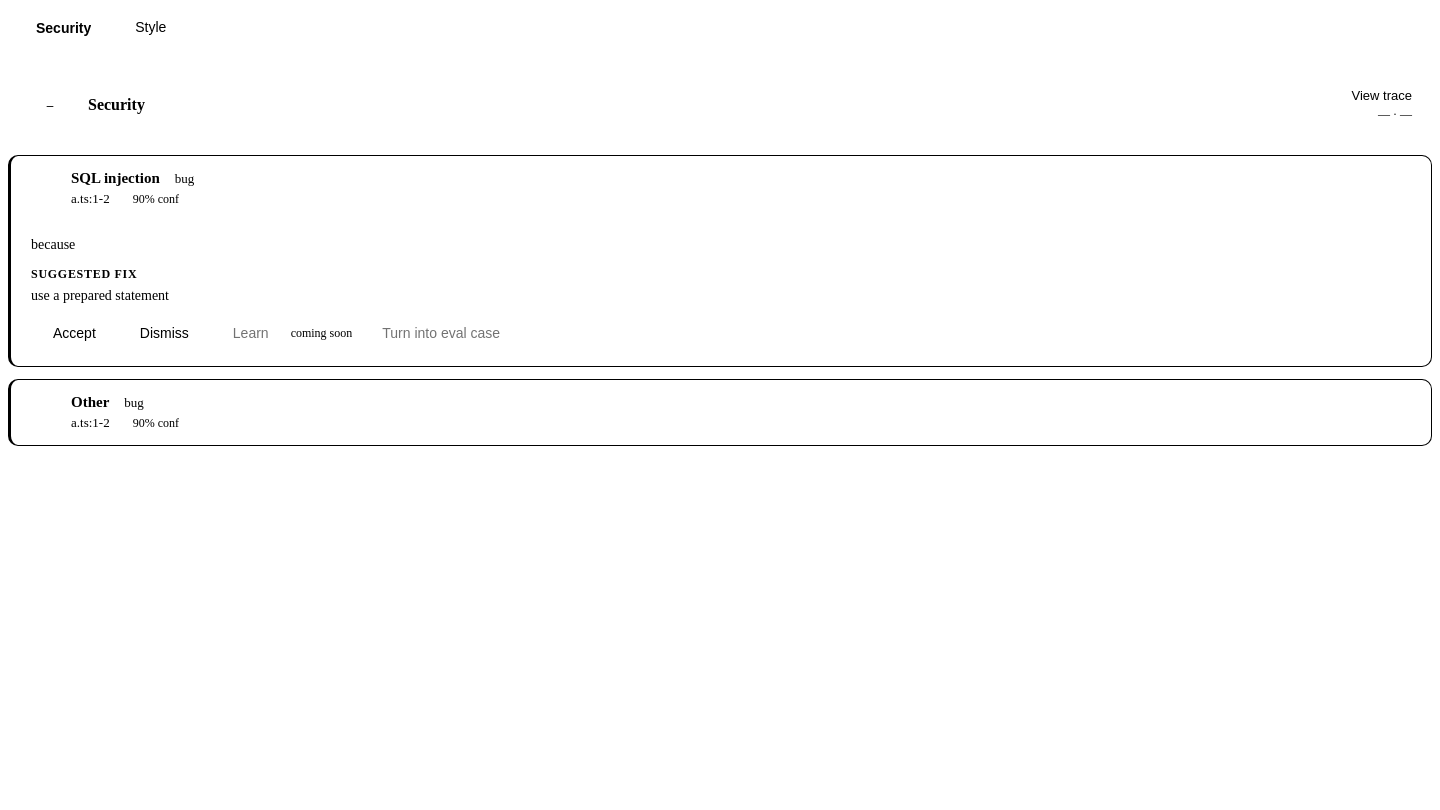
Test: TabsView › renders non-focused findings collapsed and expands them on click
The image size is (1440, 810).
Check: the number of buttons "Accept" is 1, box [31,318,110,348]
Click the button "Other bug a.ts:1-2 90% conf": (90, 402) [11,380,1431,445]
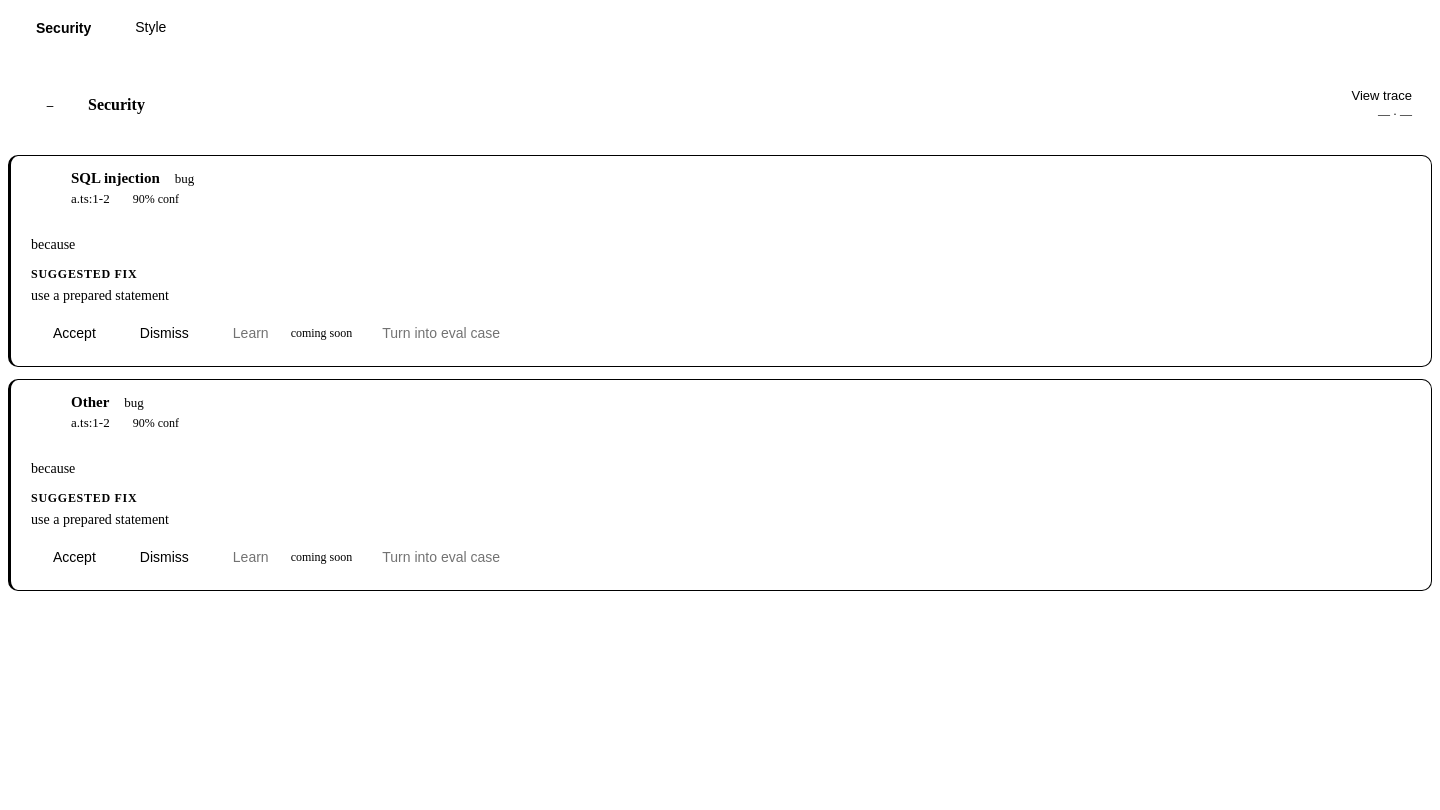
Check: the number of buttons "Accept" is 2, box [31,318,110,348]; [31,542,110,572]
